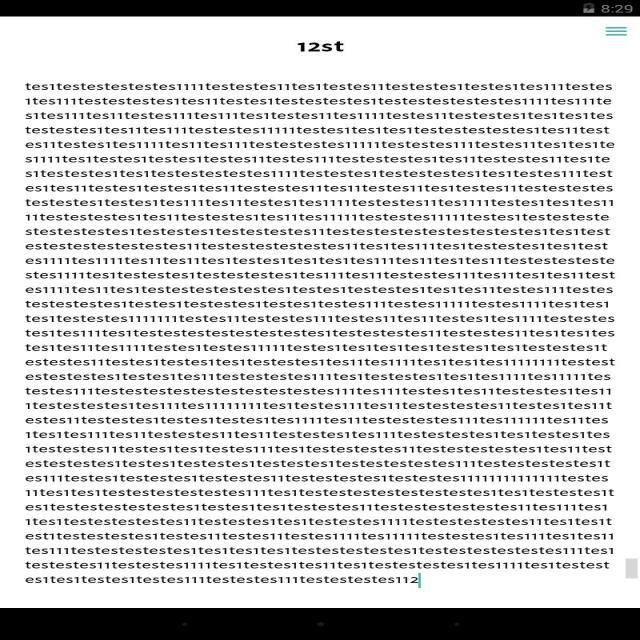button: (603, 22, 635, 39)
heading: (294, 38, 353, 57)
text: (23, 81, 617, 587)
